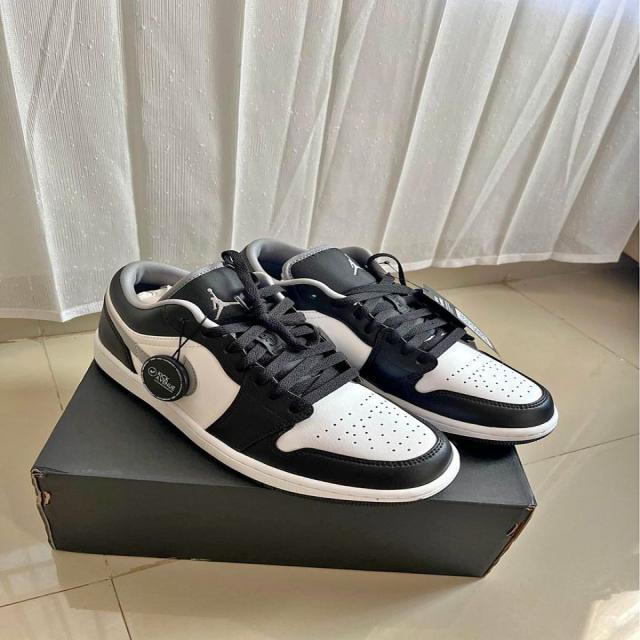nike original jordan 1: (89, 256, 498, 507), (240, 240, 554, 447)
